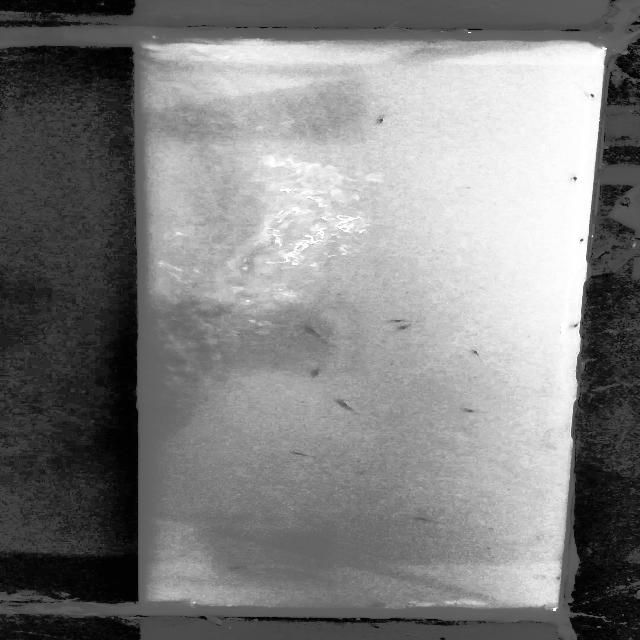shrimp: (366, 112, 421, 128), (452, 403, 486, 418), (464, 348, 494, 361), (558, 172, 582, 188), (337, 396, 359, 411), (582, 88, 601, 104), (379, 316, 415, 324), (392, 323, 422, 332), (305, 326, 325, 339), (570, 316, 586, 332), (360, 602, 394, 608), (307, 367, 327, 377), (415, 514, 435, 522), (580, 230, 588, 248), (288, 450, 308, 457), (227, 566, 250, 571)
